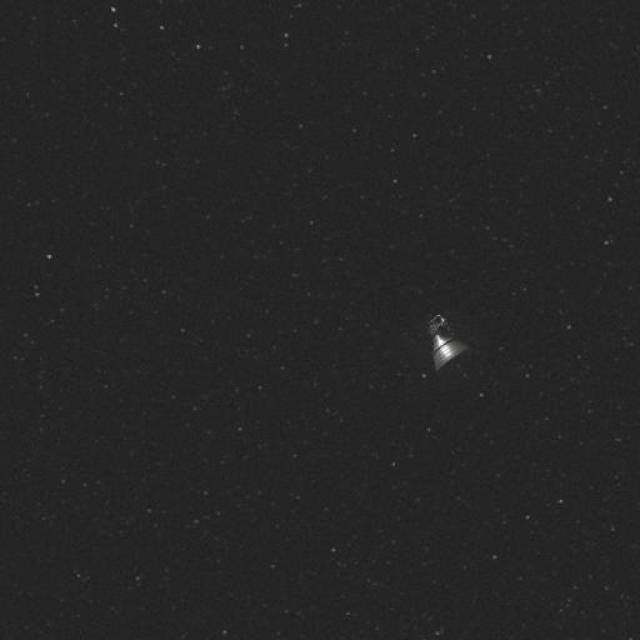debris: (411, 296, 477, 388)
